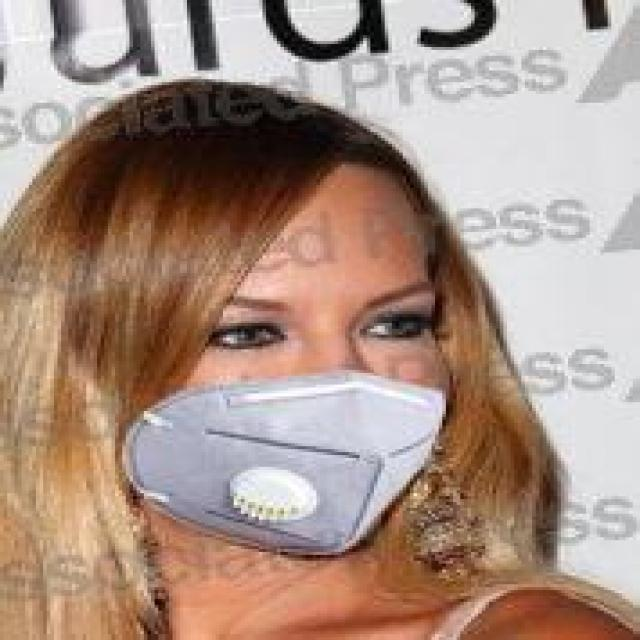mask: (14, 76, 514, 582)
